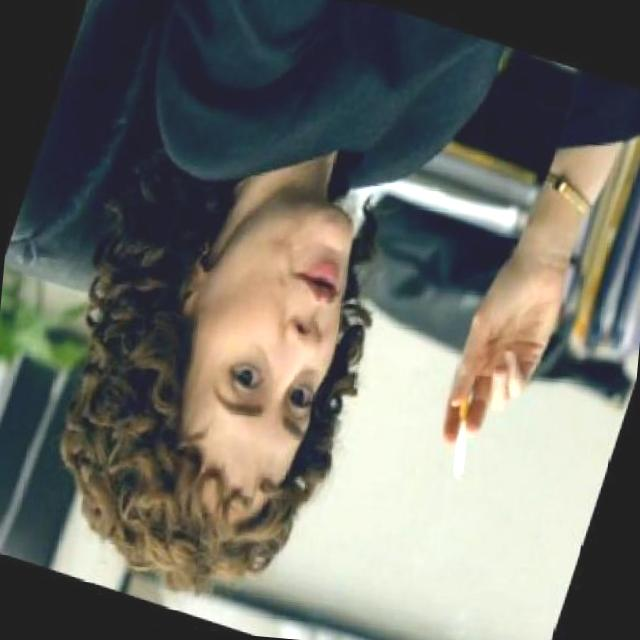cigarette: (436, 394, 490, 484)
